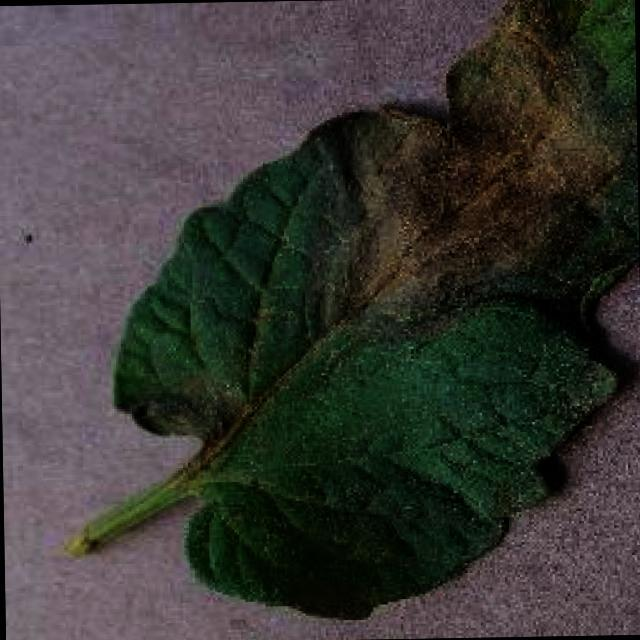Tomato late blight leaf: (109, 0, 640, 623)
